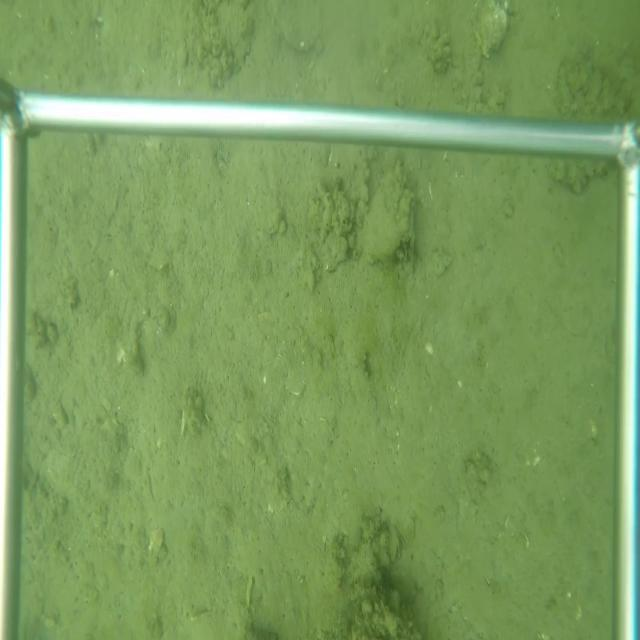Oyster-Indeterminate: (361, 150, 416, 269)
